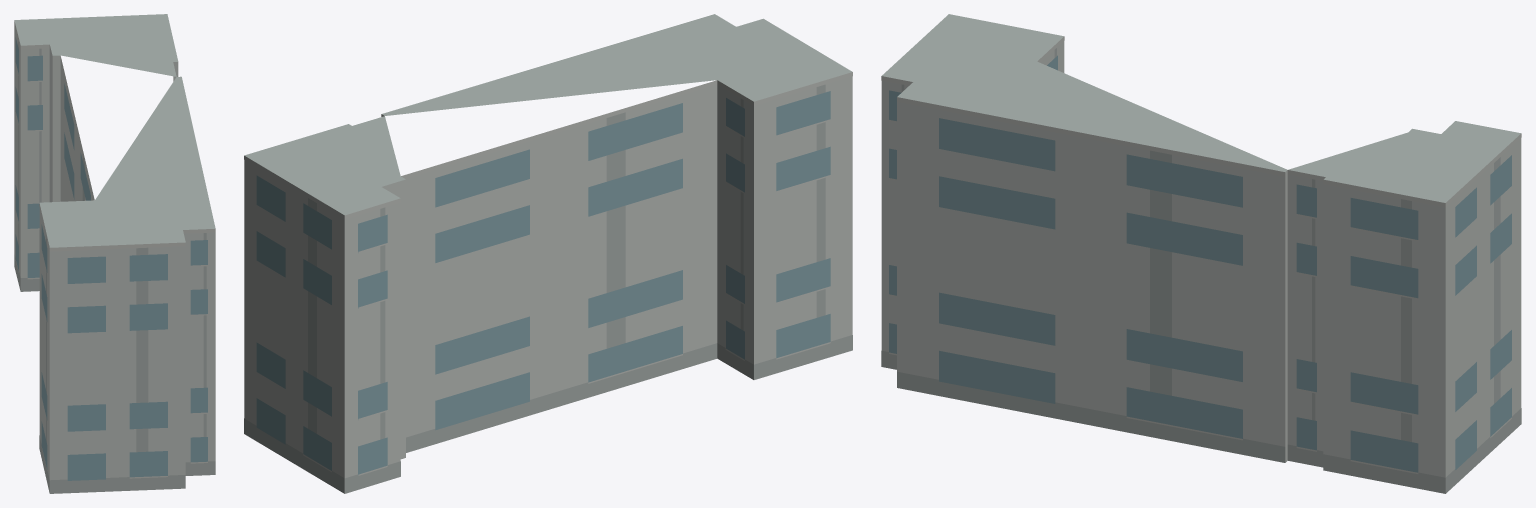
The model's file is survey-upis-32992962.glb.
The picture shows the model from 3 angles, left to right: view 1: azimuth 30°, elevation 25°; view 2: azimuth 150°, elevation 25°; view 3: azimuth 270°, elevation 25°; orthographic projection. The views are drawn at different scales.
Visible parts, largest first — view 1: survey-upis-32992962.tmp; view 2: survey-upis-32992962.tmp; view 3: survey-upis-32992962.tmp.
Boxes of the visible parts, x1,y1,x2,y2 form: survey-upis-32992962.tmp: (14,14,215,493); survey-upis-32992962.tmp: (244,14,852,493); survey-upis-32992962.tmp: (881,14,1521,493).
Bounding box in the file's own units: 21.9 × 15.7 × 31.32.
